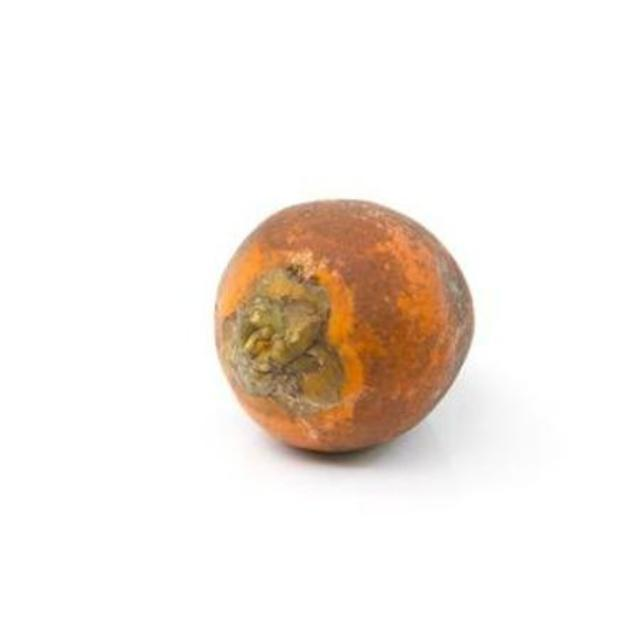good: (216, 201, 472, 450)
